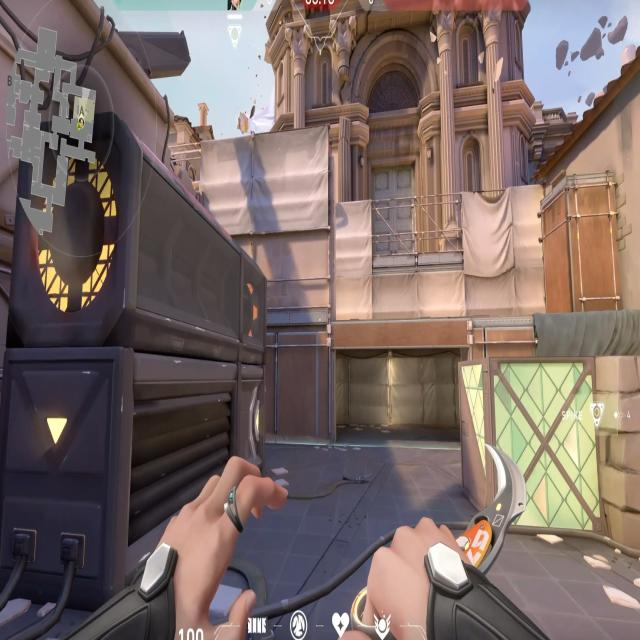A_Heaven_Box: (537, 166, 629, 319)
A_Heaven_Wall: (199, 134, 338, 338)
A_Hell: (310, 338, 496, 450)
A_Site_Box: (456, 354, 640, 560)
